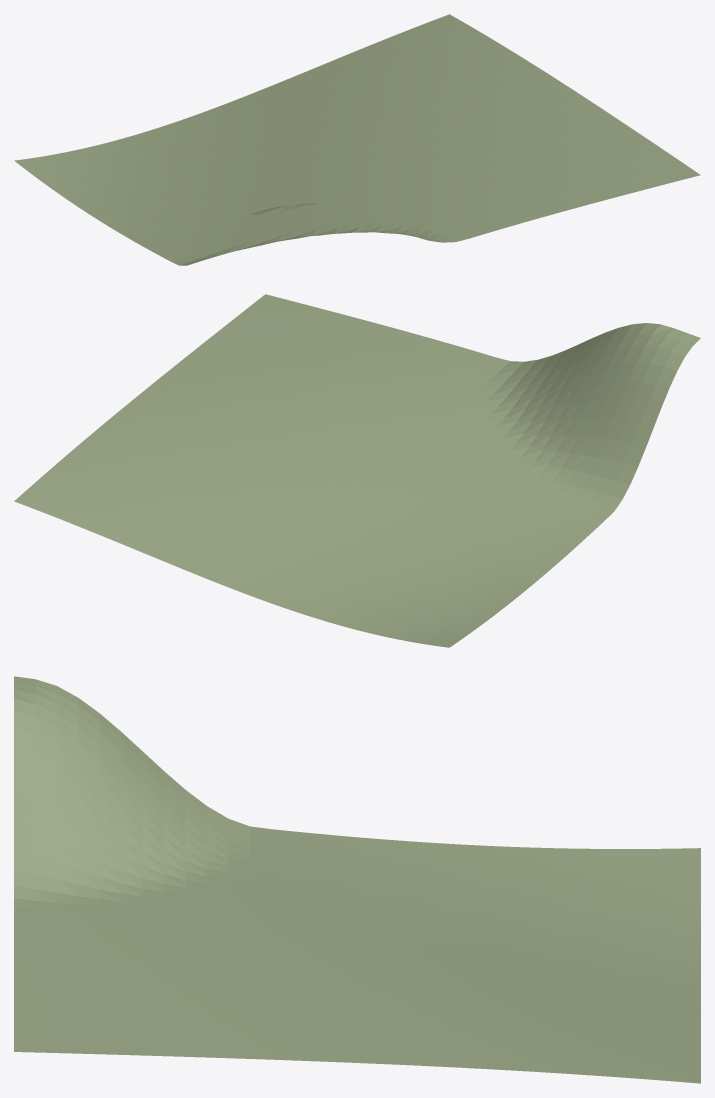
The model's file is expanse-8-24.glb.
The picture shows the model from 3 angles, top to bottom: view 1: azimuth 30°, elevation 25°; view 2: azimuth 150°, elevation 25°; view 3: azimuth 270°, elevation 25°; orthographic projection. The views are drawn at different scales.
Visible parts, largest first — view 1: expanse-8-24; view 2: expanse-8-24; view 3: expanse-8-24.
Boxes of the visible parts, <box> form: expanse-8-24: <box>14,14,700,265</box>; expanse-8-24: <box>14,294,700,647</box>; expanse-8-24: <box>14,676,700,1083</box>.
Bounding box in the file's own units: 256 × 75.56 × 256.
